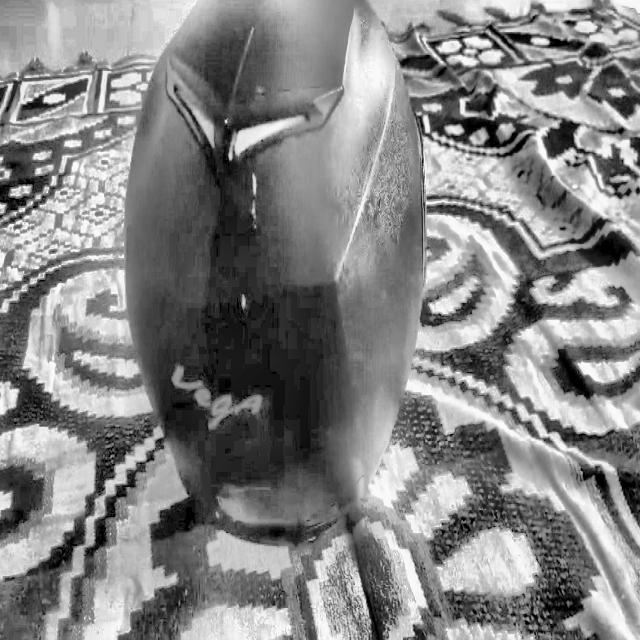Helmet: (120, 0, 429, 554)
